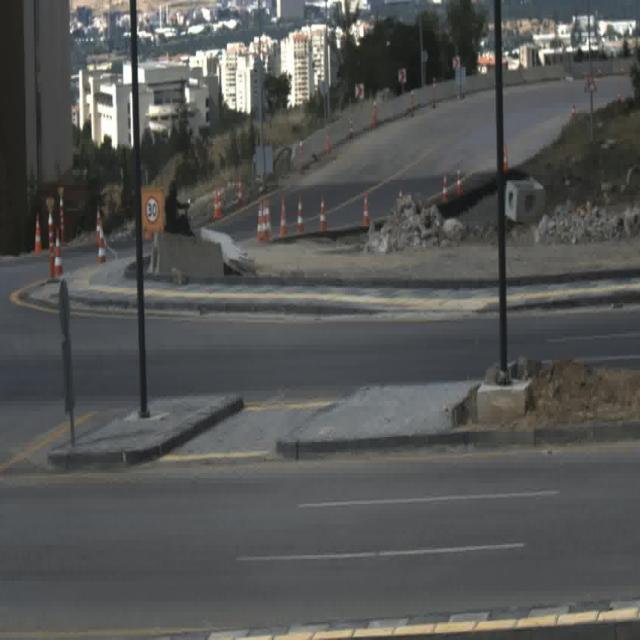Motorcycle: (165, 180, 191, 236)
